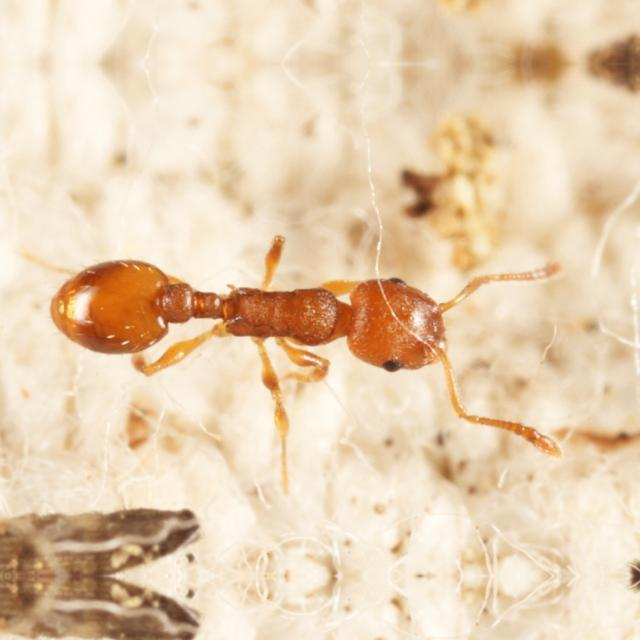Temnothorax: (0, 170, 590, 464)
